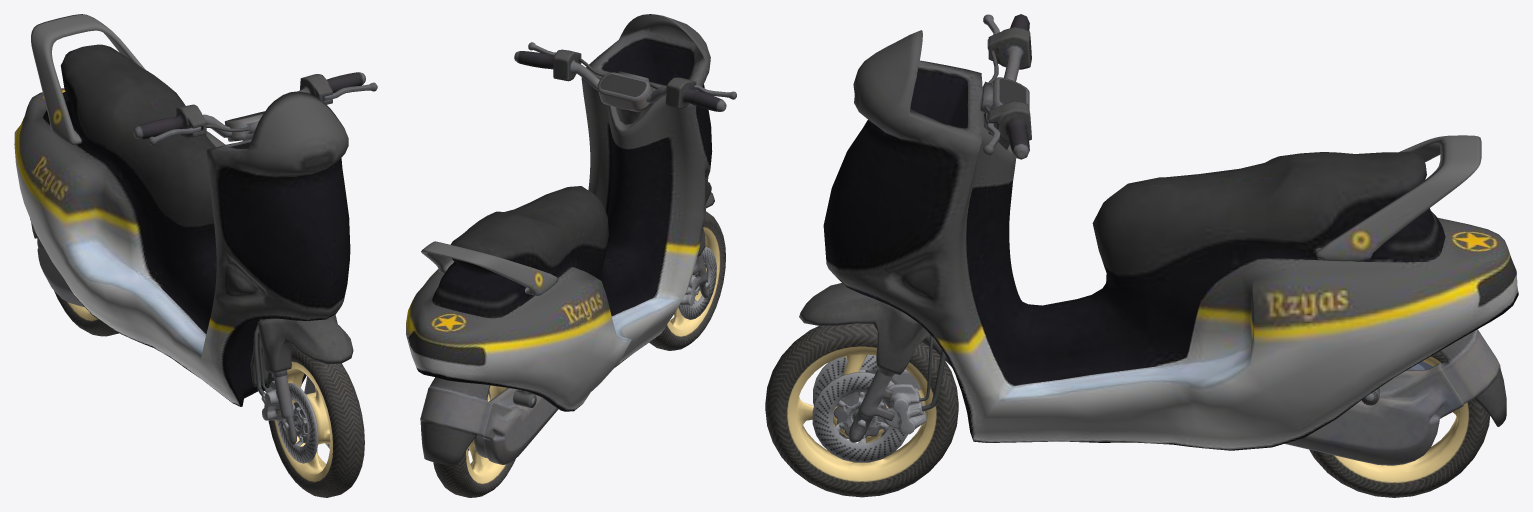
File: ride_electric.glb
3 views of the same model, side by side, from view 1: azimuth 30°, elevation 25°; view 2: azimuth 150°, elevation 25°; view 3: azimuth 270°, elevation 25° (orthographic). The views are drawn at different scales.
Parts seen in each view (by area): view 1: body, wheelF, wheelR; view 2: body, wheelF, wheelR; view 3: body, wheelF, wheelR.
Part boxes in pixels (<box>): body: <box>14,14,377,445</box>; wheelF: <box>266,345,364,497</box>; wheelR: <box>54,291,118,336</box>; body: <box>406,14,736,466</box>; wheelF: <box>649,211,725,350</box>; wheelR: <box>433,385,515,497</box>; body: <box>799,14,1518,465</box>; wheelF: <box>765,323,958,497</box>; wheelR: <box>1309,351,1490,497</box>.
Bounding box in the file's own units: 0.7855 × 1.25 × 1.85.
Materials: 4 (4 with a texture image).
